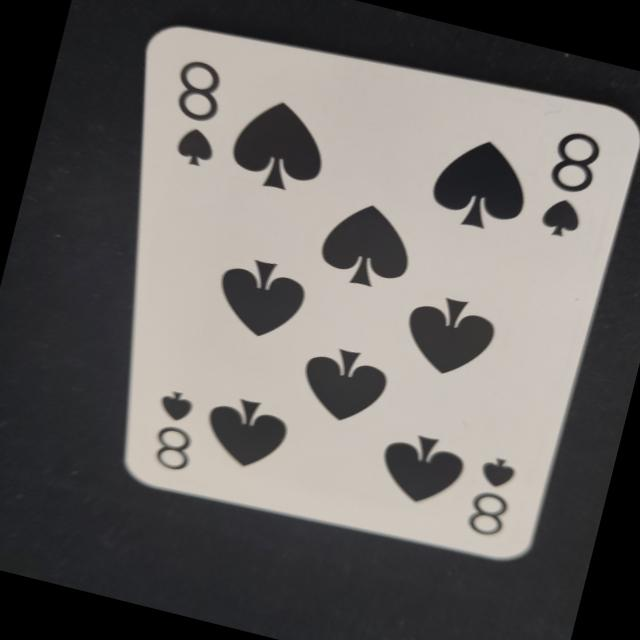8s: (150, 46, 240, 174), (526, 121, 608, 248), (132, 372, 217, 480), (453, 444, 528, 544)
